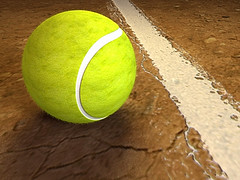tennis ball: (20, 7, 137, 126)
